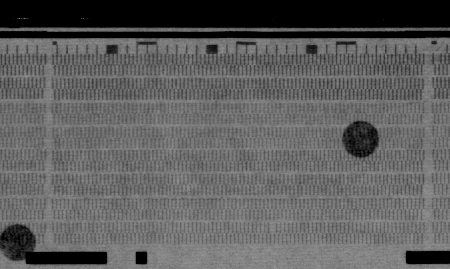Broken hole: (431, 52, 443, 65), (267, 221, 278, 233)
